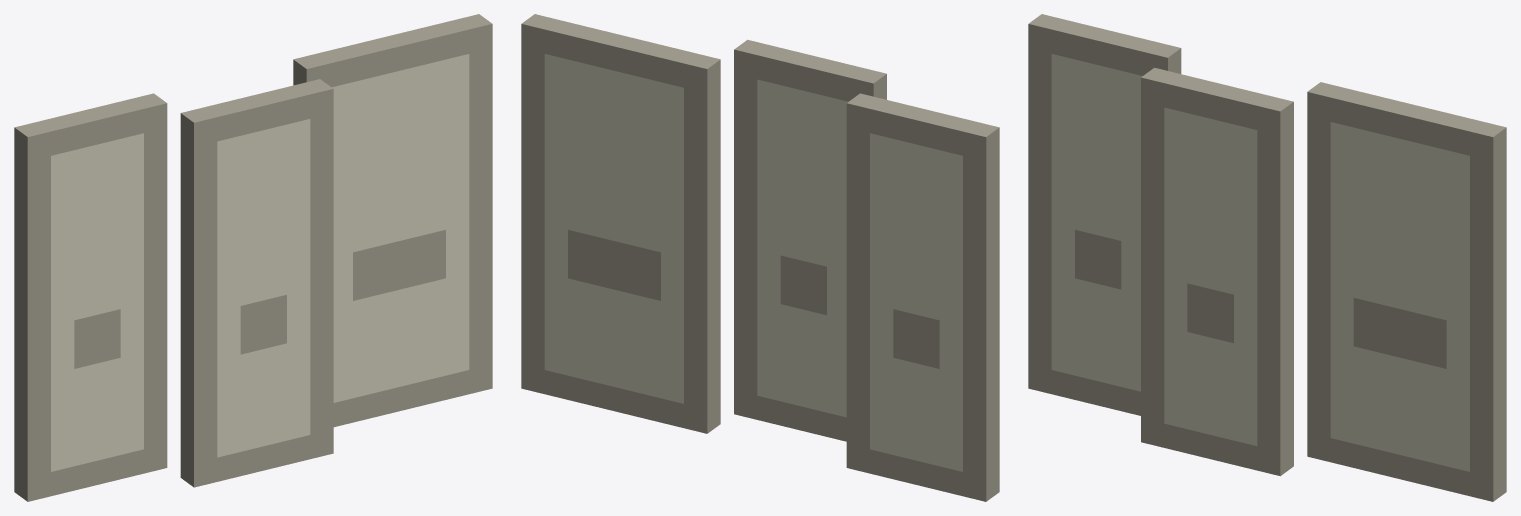
Rendered from biombo_abedul_pintado_01.glb.
3 renders of one model, left to right at view 1: azimuth 30°, elevation 25°; view 2: azimuth 150°, elevation 25°; view 3: azimuth 330°, elevation 25°, orthographic.
Visible parts, largest first — view 1: biombo_abedul_pintado; view 2: biombo_abedul_pintado; view 3: biombo_abedul_pintado.
Boxes of the visible parts, box(x1,y1,x2,y2) form: biombo_abedul_pintado: box(14, 14, 492, 501); biombo_abedul_pintado: box(521, 14, 999, 501); biombo_abedul_pintado: box(1028, 14, 1506, 501).
Bounding box in the file's own units: 2 × 1.5 × 0.3.
